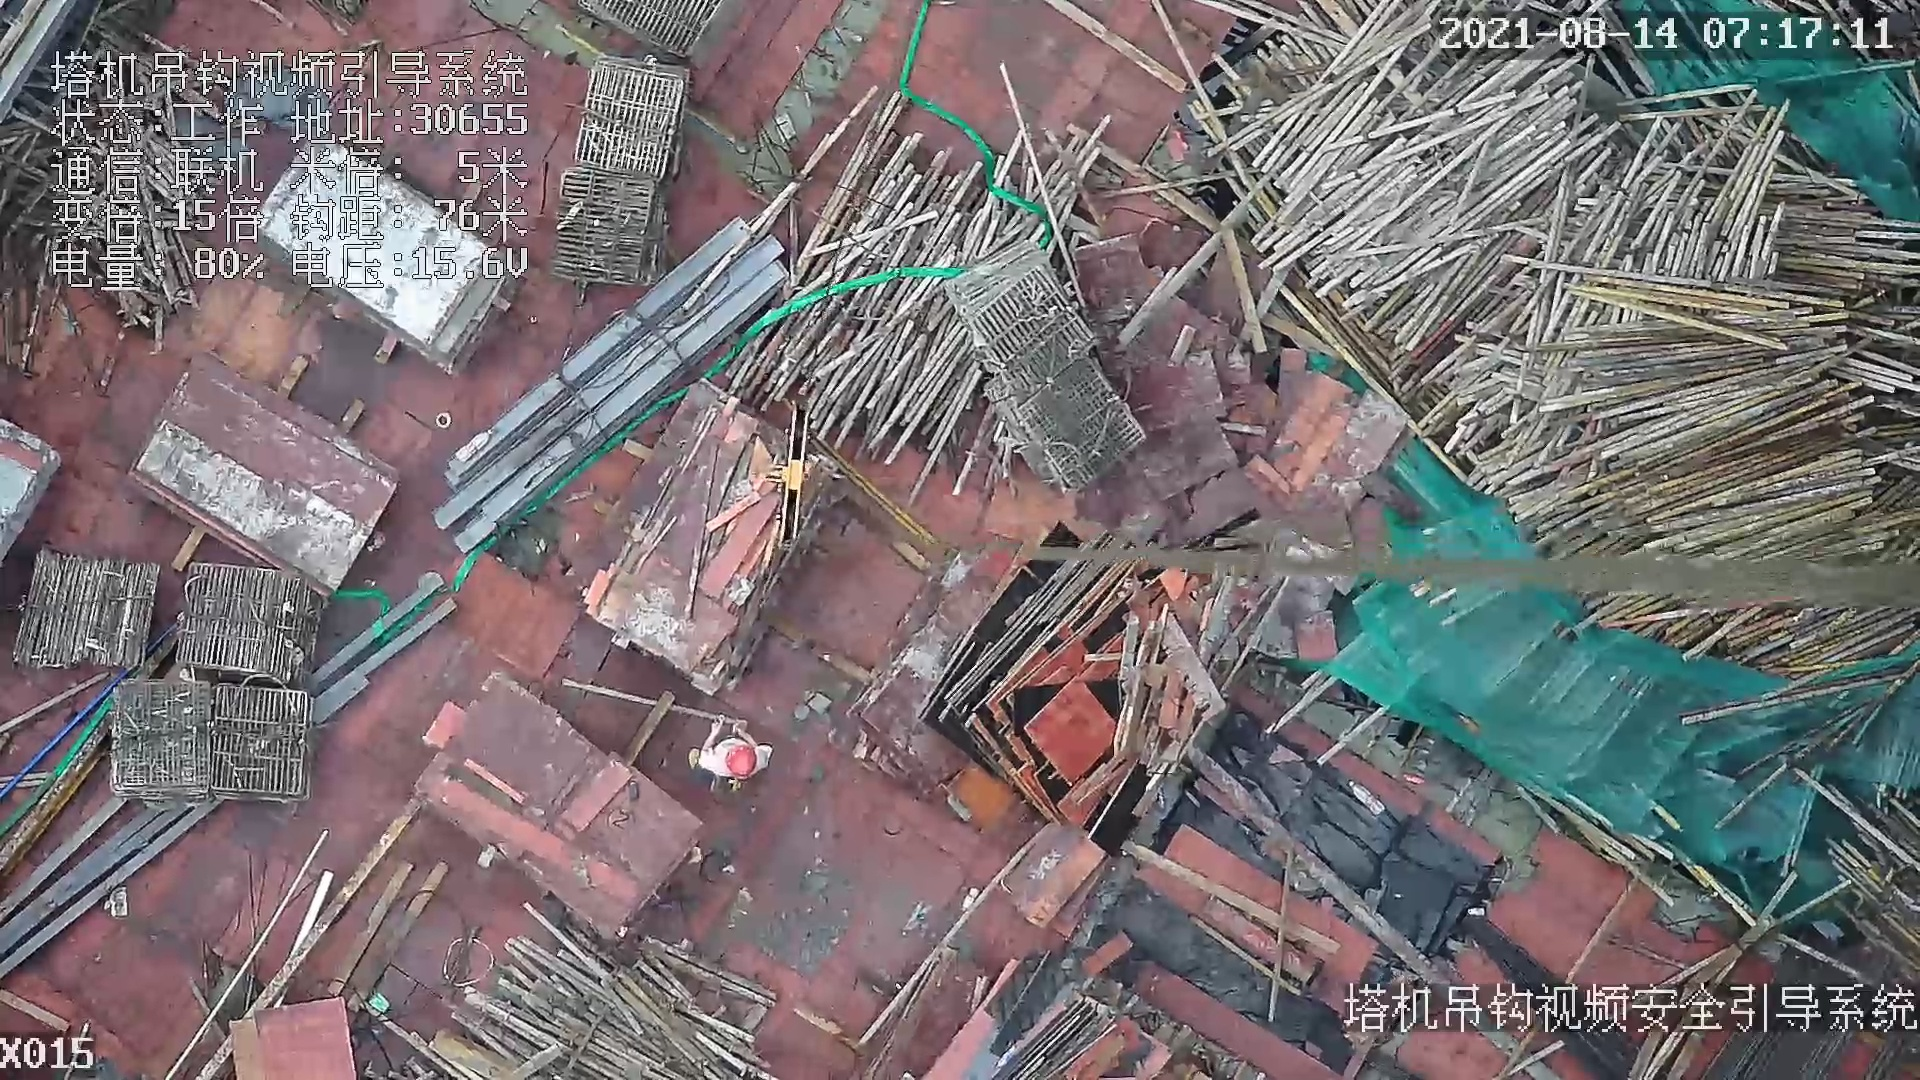helmet: (726, 742, 762, 783)
hook: (759, 399, 814, 549)
person: (687, 715, 776, 785)
